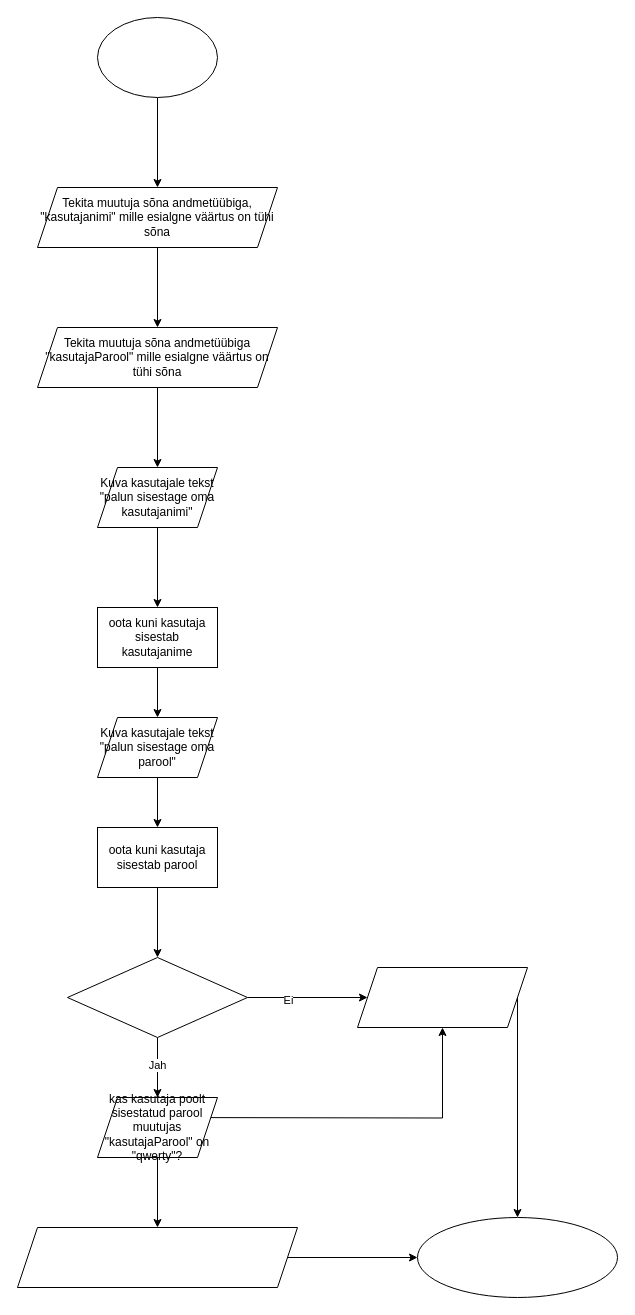
Image size: 635x1315. Some labels were removed from this diagram. The centre of each missing label's shape, as x and y in pixels:
Algus: point (157, 57)
kas kasutaja poolt sisestatud kasutaja nimi muutujas "kasutajanimi" on "user1"?: point (157, 997)
kuva kasutajale tekst "kasutajanimi või parool ei ole õige, sissepääas keelatud": point (442, 997)
Kuva kasutajale tekst "olete edukalt sisse logitud": point (157, 1257)
